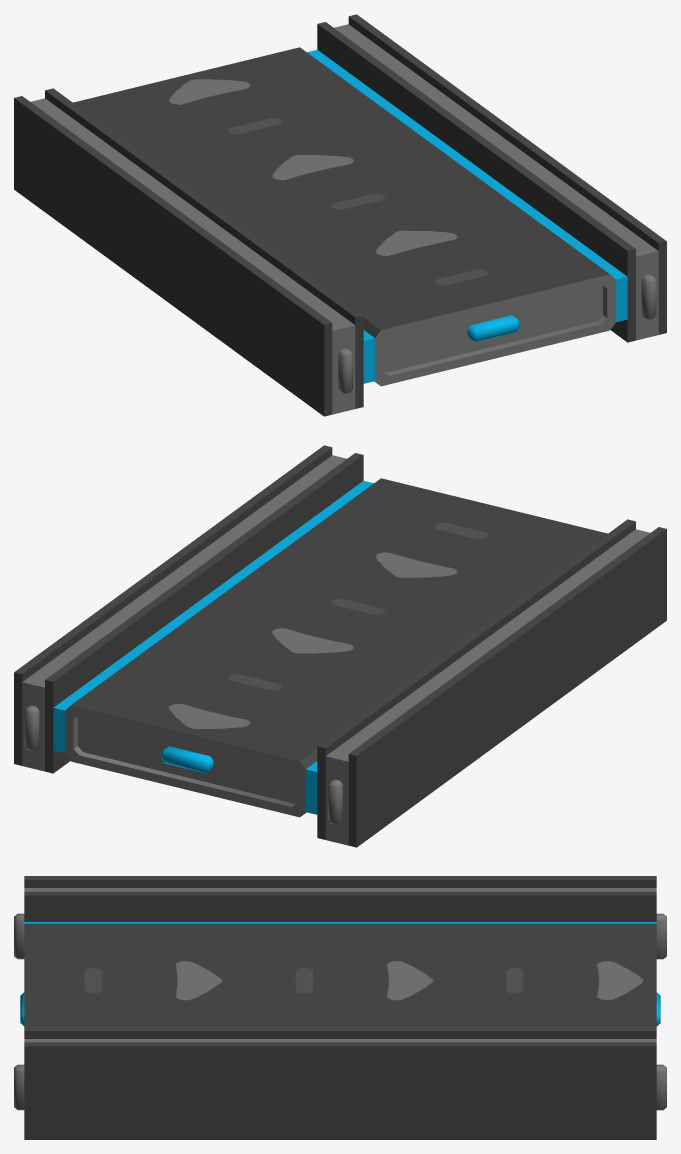
File: Conveyor_Belt_S01.fbx
The picture shows the model from 3 angles, top to bottom: view 1: azimuth 30°, elevation 25°; view 2: azimuth 150°, elevation 25°; view 3: azimuth 270°, elevation 25°; orthographic projection.
Parts seen in each view (by area): view 1: Conveyor_Belt_S01; view 2: Conveyor_Belt_S01; view 3: Conveyor_Belt_S01.
Part boxes in pixels (bbox=[...]): Conveyor_Belt_S01: bbox=[14, 14, 666, 416]; Conveyor_Belt_S01: bbox=[14, 445, 666, 847]; Conveyor_Belt_S01: bbox=[14, 876, 666, 1139].
Bounding box in the file's own units: 128 × 32.6 × 207.
